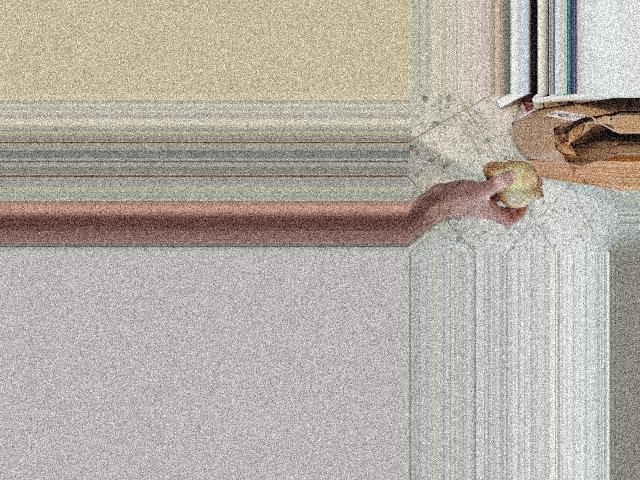onion: (481, 155, 545, 213)
